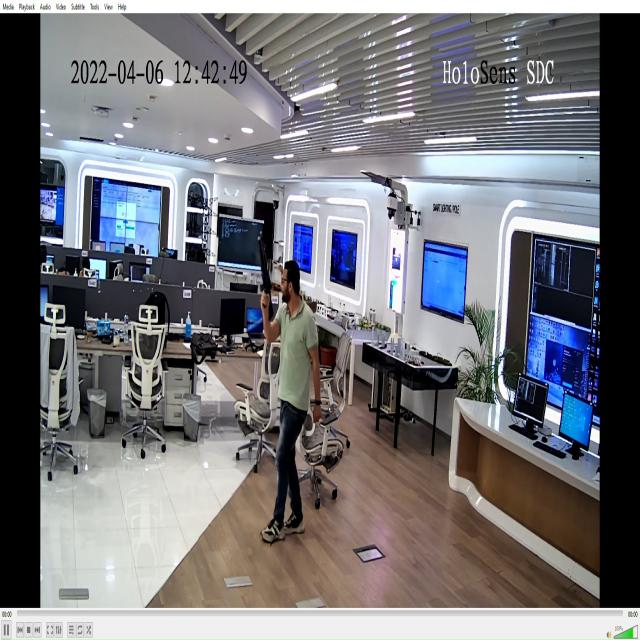long weapon: (256, 229, 276, 319)
